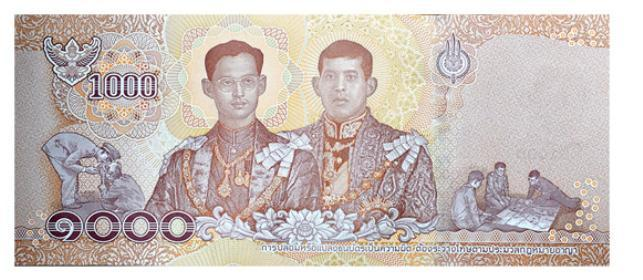1000BahtTai: (17, 15, 611, 267)
